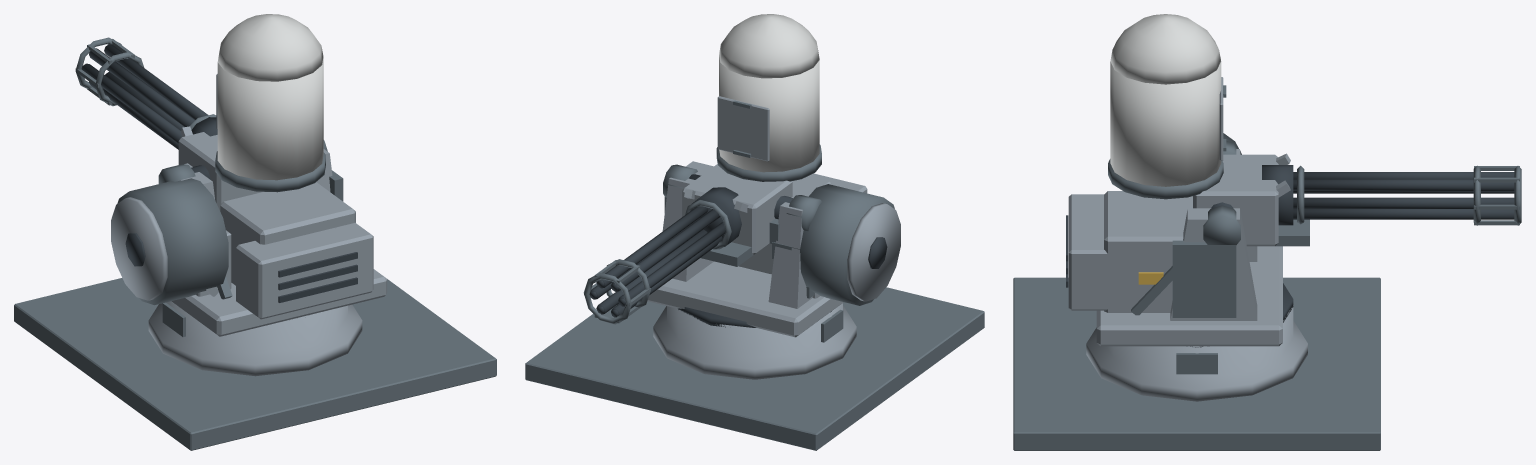
Rendered from MOD_CIWS_U1.fbx.
3 views of the same model, side by side, from view 1: azimuth 30°, elevation 25°; view 2: azimuth 150°, elevation 25°; view 3: azimuth 270°, elevation 25° (orthographic). The views are drawn at different scales.
Visible parts, largest first — view 1: MOD_CIWS_U1_Root_Visual_Deck_Grey, TurretPivot_Visual_Naval_Blue_Grey, ElevationPivot_Visual_Medical_White, CIWSFixedDeckPedestal, TurretPivot_Visual_Deck_Grey, BarrelCluster_Visual_Gunmetal, TurretPivot_Visual_Gunmetal, ElevationPivot_Visual_Naval_Blue_Grey, BarrelCluster_Visual_Deck_Grey, ElevationPivot_Visual_Deck_Grey, ElevationPivot_Visual_Gunmetal; view 2: MOD_CIWS_U1_Root_Visual_Deck_Grey, TurretPivot_Visual_Naval_Blue_Grey, ElevationPivot_Visual_Medical_White, CIWSFixedDeckPedestal, TurretPivot_Visual_Deck_Grey, ElevationPivot_Visual_Naval_Blue_Grey, BarrelCluster_Visual_Gunmetal, ElevationPivot_Visual_Deck_Grey, BarrelCluster_Visual_Deck_Grey, ElevationPivot_Visual_Gunmetal, CIWSFixedYawBearing, TurretPivot_Visual_Gunmetal; view 3: MOD_CIWS_U1_Root_Visual_Deck_Grey, TurretPivot_Visual_Naval_Blue_Grey, ElevationPivot_Visual_Medical_White, CIWSFixedDeckPedestal, BarrelCluster_Visual_Gunmetal, TurretPivot_Visual_Deck_Grey, ElevationPivot_Visual_Naval_Blue_Grey, ElevationPivot_Visual_Deck_Grey, BarrelCluster_Visual_Deck_Grey, ElevationPivot_Visual_Gunmetal.
Part boxes in pixels (x1,y1,x2,y2): MOD_CIWS_U1_Root_Visual_Deck_Grey: [14, 278, 496, 450]; TurretPivot_Visual_Naval_Blue_Grey: [111, 149, 387, 336]; ElevationPivot_Visual_Medical_White: [217, 14, 323, 180]; CIWSFixedDeckPedestal: [148, 301, 362, 376]; TurretPivot_Visual_Deck_Grey: [117, 140, 343, 305]; BarrelCluster_Visual_Gunmetal: [81, 44, 208, 149]; TurretPivot_Visual_Gunmetal: [125, 233, 357, 302]; ElevationPivot_Visual_Naval_Blue_Grey: [178, 74, 263, 210]; BarrelCluster_Visual_Deck_Grey: [75, 37, 216, 129]; ElevationPivot_Visual_Deck_Grey: [166, 151, 325, 192]; ElevationPivot_Visual_Gunmetal: [191, 117, 217, 179]; MOD_CIWS_U1_Root_Visual_Deck_Grey: [525, 287, 984, 450]; TurretPivot_Visual_Naval_Blue_Grey: [647, 161, 900, 337]; ElevationPivot_Visual_Medical_White: [719, 14, 819, 172]; CIWSFixedDeckPedestal: [653, 303, 856, 379]; TurretPivot_Visual_Deck_Grey: [663, 164, 894, 305]; ElevationPivot_Visual_Naval_Blue_Grey: [682, 96, 792, 254]; BarrelCluster_Visual_Gunmetal: [589, 206, 725, 317]; ElevationPivot_Visual_Deck_Grey: [701, 100, 821, 266]; BarrelCluster_Visual_Deck_Grey: [583, 200, 731, 324]; ElevationPivot_Visual_Gunmetal: [689, 174, 792, 246]; CIWSFixedYawBearing: [678, 307, 831, 327]; TurretPivot_Visual_Gunmetal: [868, 237, 887, 268]; MOD_CIWS_U1_Root_Visual_Deck_Grey: [1013, 277, 1380, 450]; TurretPivot_Visual_Naval_Blue_Grey: [1068, 149, 1282, 346]; ElevationPivot_Visual_Medical_White: [1110, 14, 1221, 186]; CIWSFixedDeckPedestal: [1086, 307, 1307, 401]; BarrelCluster_Visual_Gunmetal: [1293, 172, 1514, 219]; TurretPivot_Visual_Deck_Grey: [1131, 133, 1241, 317]; ElevationPivot_Visual_Naval_Blue_Grey: [1193, 77, 1290, 246]; ElevationPivot_Visual_Deck_Grey: [1108, 85, 1309, 246]; BarrelCluster_Visual_Deck_Grey: [1297, 165, 1521, 225]; ElevationPivot_Visual_Gunmetal: [1211, 165, 1293, 225].
Bounding box in the file's own units: 176 × 188 × 243.
